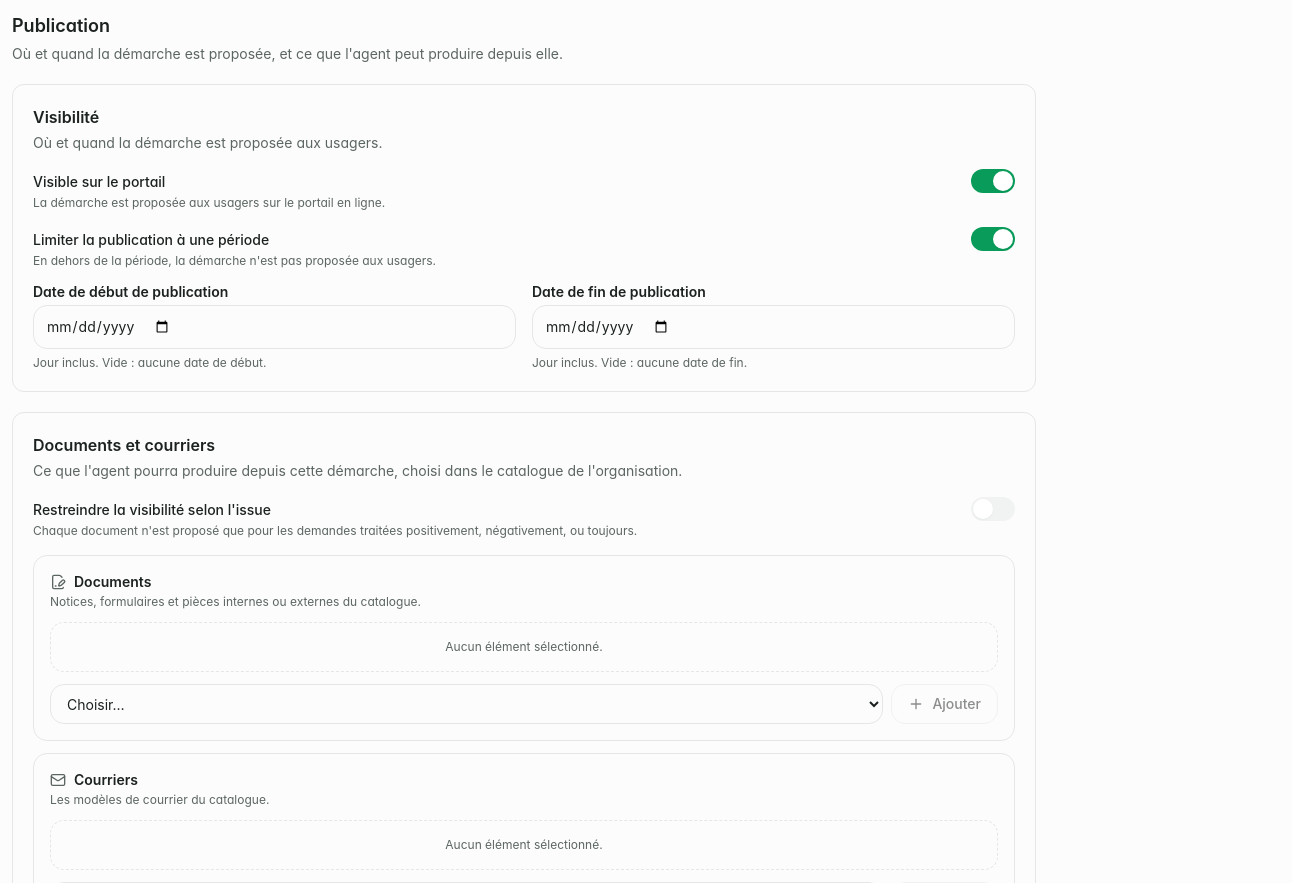
Test: CommunicationStep — bloc Visibilité › les dates n'apparaissent que si la publication est limitée à une période
The width and height of the screenshot is (1292, 883).
What coordinates should you click on to do the following:
click the switch named "Limiter la publication à une période"
I would click on:
 (993, 239)
Its box is top-left (971, 227), bottom-right (1015, 251).
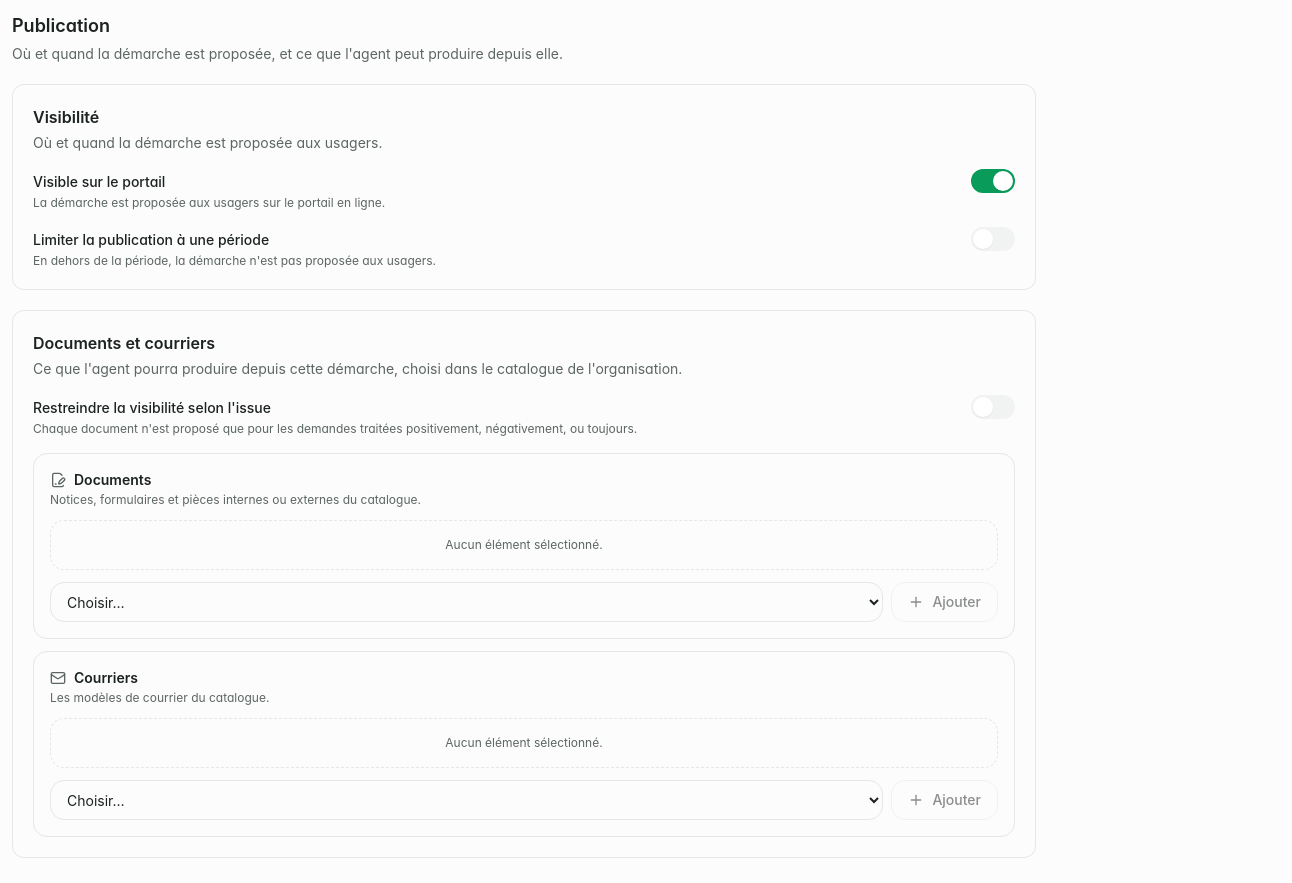
Expected: the label labelled "Date de début de publication" is gone
Expected: the label labelled "Date de fin de publication" is gone
